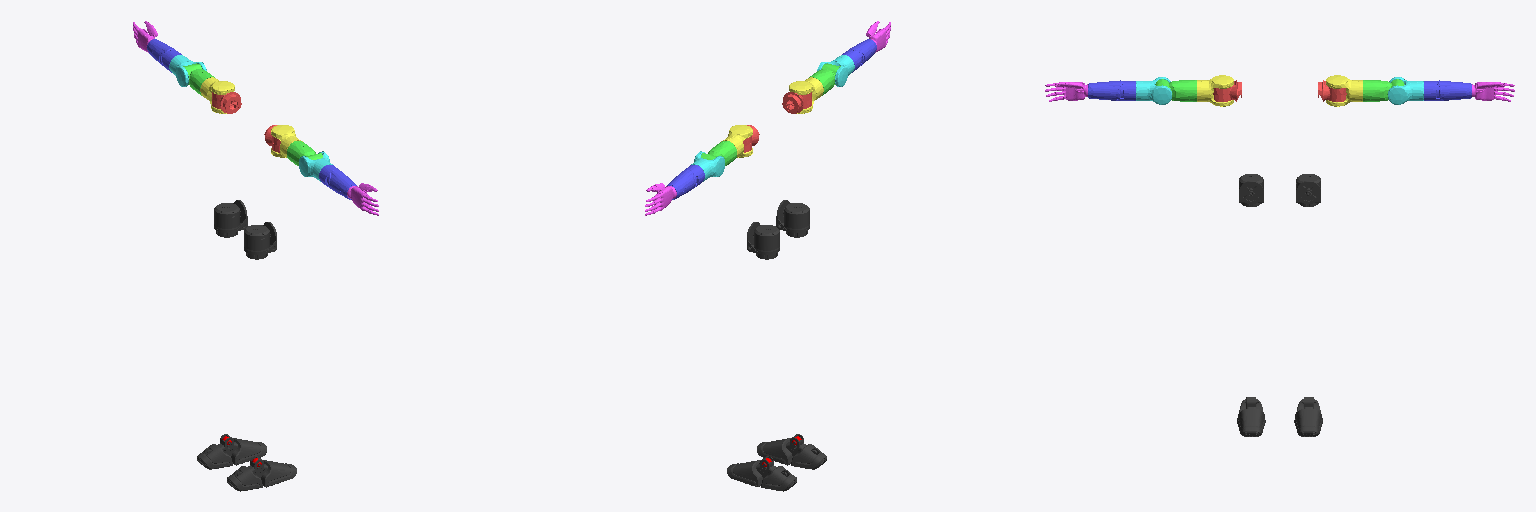
--- Facts derived from the render (not from the file) ---
Views: 3 orthographic renders of the robot side by side, from view 1: azimuth 30°, elevation 25°; view 2: azimuth 150°, elevation 25°; view 3: azimuth 270°, elevation 25°.
Model wholebody_description with 32 links and 31 joints (24 revolute, 7 fixed), rooted at world, posed every joint at zero.
Links seen in each view (by area): view 1: 2-right-foot, 1-left-foot, 1-left-hip-roll, 2-right-hip-roll, 4-right-arm-link05, 4-right-arm-link07, 3-left-arm-link02, 3-left-arm-link05, 4-right-arm-link02; view 2: 1-left-foot, 2-right-foot, 2-right-hip-roll, 1-left-hip-roll, 3-left-arm-link05, 3-left-arm-link07, 4-right-arm-link02, 4-right-arm-link05, 3-left-arm-link02; view 3: 1-left-foot, 2-right-foot, 3-left-arm-link05, 4-right-arm-link05, 2-right-hip-roll, 1-left-hip-roll, 3-left-arm-link04, 4-right-arm-link04, 3-left-arm-link02, 4-right-arm-link02, 4-right-arm-link07, 3-left-arm-link07 (+2 smaller).
Boxes of the visible links, bbox=[...] form: 2-right-foot: bbox=[227, 456, 296, 491]; 1-left-foot: bbox=[197, 434, 266, 469]; 1-left-hip-roll: bbox=[214, 200, 247, 237]; 2-right-hip-roll: bbox=[244, 222, 276, 259]; 4-right-arm-link05: bbox=[319, 165, 356, 199]; 4-right-arm-link07: bbox=[347, 183, 378, 215]; 3-left-arm-link02: bbox=[200, 77, 234, 113]; 3-left-arm-link05: bbox=[147, 39, 181, 72]; 4-right-arm-link02: bbox=[271, 125, 302, 157]; 1-left-foot: bbox=[727, 456, 796, 491]; 2-right-foot: bbox=[757, 434, 826, 469]; 2-right-hip-roll: bbox=[776, 200, 809, 237]; 1-left-hip-roll: bbox=[747, 222, 779, 259]; 3-left-arm-link05: bbox=[667, 165, 704, 199]; 3-left-arm-link07: bbox=[645, 183, 676, 215]; 4-right-arm-link02: bbox=[789, 77, 823, 113]; 4-right-arm-link05: bbox=[842, 39, 876, 72]; 3-left-arm-link02: bbox=[721, 125, 752, 157]; 1-left-foot: bbox=[1294, 397, 1322, 436]; 2-right-foot: bbox=[1237, 397, 1265, 436]; 3-left-arm-link05: bbox=[1424, 80, 1471, 100]; 4-right-arm-link05: bbox=[1088, 80, 1135, 100]; 2-right-hip-roll: bbox=[1239, 174, 1263, 206]; 1-left-hip-roll: bbox=[1296, 174, 1320, 206]; 3-left-arm-link04: bbox=[1388, 77, 1423, 104]; 4-right-arm-link04: bbox=[1136, 77, 1171, 104]; 3-left-arm-link02: bbox=[1326, 75, 1362, 106]; 4-right-arm-link02: bbox=[1197, 75, 1233, 106]; 4-right-arm-link07: bbox=[1045, 82, 1087, 101]; 3-left-arm-link07: bbox=[1472, 82, 1514, 101].
Size in the robot's own frame: 0.3018 by 1.97 by 1.61 metres.
16 mesh visuals loaded from 12 distinct referenced files (8 binary STL); not drawn: 7 (reference not matched to a file when rendering).

The robot description file, URDF, robot "wholebody_description":
<?xml version="1.0"?>
<robot name="wholebody_description">

  <link name="world">
  </link>
  <joint name="world_joint" type="fixed">
     <origin
        xyz="0.0 0.0 0.0" rpy="0 0 0" />
     <parent link="world"/>
     <child link="0-base_link"/>
  </joint>
  <link name="0-base_link">
    <inertial>
      <origin
          rpy="0 0 0"
          xyz="0.014568 0 0.177736" />
      <mass value="19.442" />
      <inertia
          ixx="0"
          ixy="0"
          ixz="0"
          iyy="0"
          iyz="0"
          izz="0" />
    </inertial>
    <visual>
      <origin
          rpy="0 0 0"
          xyz="0 0 0" />
      <geometry>
        <mesh filename="package://wholebody_description/meshes/body_0529.STL" />
      </geometry>
      <material name="">
        <color rgba="0.3 0.3 0.3 0.3"/>
        <texture filename=""/>
      </material>
    </visual>
    <collision>
      <origin
        xyz="0 0 0"
        rpy="0 0 0" />
      <geometry>
        <mesh
         filename="package://wholebody_description/meshes/body_0529.STL" />
       </geometry>
    </collision>
  </link>

  <link name="1-left-hip-roll">
    <inertial>
      <origin xyz="0.0238 0.0 -0.062536" rpy="0.0 0.0 0.0"/>
      <mass value="1.854"/>
      <inertia
          ixx="2776E-06"
          ixy="-0.219E-06"
          ixz="-147E-06"
          iyy="2934E-06"
          iyz="0.949E-06"
          izz="2550E-06" />
    </inertial>
    <visual name="">
      <origin xyz="0.0 0.0 0.0" rpy="0.0 0.0 0.0"/>
      <geometry>
        <mesh filename="package://wholebody_description/meshes/hip_roll_new.STL" />
      </geometry>
      <material name="">
        <color rgba="0.3 0.3 0.3 0.3"/>
        <texture filename=""/>
      </material>
    </visual>
    <collision>
      <origin
        xyz="0 0 0"
        rpy="0 0 0" />
      <geometry>
        <mesh
        filename="package://wholebody_description/meshes/hip_roll_new.STL" />
       </geometry>
    </collision>
  </link>
  <joint name="1-joint-left-hip-roll" type="revolute">
    <origin xyz="0.01865 0.11996 -0.05233" rpy="0.0 1.57079632679 0.0"/>
    <parent link="0-base_link"/>
    <child link="1-left-hip-roll"/>
    <axis xyz="0.0 0.0 1.0"/>
    <limit lower="-3.14" upper="3.14" effort="0.0" velocity="0.0"/>
  </joint>

  <link name="1-left-hip-yaw">
    <inertial>
      <origin xyz="-0.000264 -0.001626 -0.072694" rpy="0.0 0.0 0.0"/>
      <mass value="1.977"/>
      <inertia
          ixx="3699E-06"
          ixy="3.912E-06"
          ixz="3.869E-06"
          iyy="4128E-06"
          iyz="33.35E-06"
          izz="2810E-06" />
    </inertial>
    <visual name="">
      <origin xyz="0.0 0.0 0.0" rpy="0.0 0.0 0.0"/>
      <geometry>
        <mesh filename="package://wholebody_description/meshes/hip_yaw_new.STL" />
      </geometry>
      <material name="">
        <color rgba="0.3 0.3 0.3 0.3"/>
        <texture filename=""/>
      </material>
    </visual>
    <collision>
      <origin
        xyz="0 0 0"
        rpy="0 0 0" />
      <geometry>
        <mesh
        filename="package://wholebody_description/meshes/hip_yaw_new.STL" />
       </geometry>
    </collision>
  </link>
  <joint name="1-joint-left-hip-yaw" type="revolute">
    <origin xyz="0.0785 0.0 -0.0685" rpy="0.0 -1.5707963 0.0"/>
    <parent link="1-left-hip-roll"/>
    <child link="1-left-hip-yaw"/>
    <axis xyz="0.0 0.0 1.0"/>
    <limit lower="-3.14" upper="3.14" effort="0.0" velocity="0.0"/>
  </joint>

  <link name="1-left-hip-pitch">
    <inertial>
      <origin xyz="0.1269 0.067935 -0.01118" rpy="0.0 0.0 0.0"/>
      <mass value="3.385"/>
      <inertia
          ixx="12468E-06"
          ixy="-3134E-06"
          ixz="-936E-06"
          iyy="41562E-06"
          iyz="-1289E-06"
          izz="42584E-06" />
    </inertial>
    <visual name="">
      <origin xyz="0 0.0 0.0" rpy="0.0 0.0 0.0"/>
      <geometry>
        <mesh filename="package://wholebody_description/meshes/hip_pitch.STL" />
      </geometry>
      <material name="">
        <color rgba="0.3 0.3 0.3 0.3"/>
        <texture filename=""/>
      </material>
    </visual>
    <collision>
      <origin
        xyz="0 0 0"
        rpy="0 0 0" />
      <geometry>
        <mesh
        filename="package://wholebody_description/meshes/hip_pitch.STL" />
       </geometry>
    </collision>
  </link>
  <joint name="1-joint-left-hip-pitch" type="revolute">
    <origin xyz="0 0 -0.083" rpy="0.0 1.5707963 -1.5707963"/>
    <parent link="1-left-hip-yaw"/>
    <child link="1-left-hip-pitch"/>
    <axis xyz="0.0 0.0 1.0"/>
    <limit lower="-3.14" upper="3.14" effort="0.0" velocity="0.0"/>
  </joint>

  <link name="1-left-tarsus">
    <inertial>
      <origin xyz="0.091898 -0.010639 -0.000277" rpy="0.0 0.0 0.0"/>
      <mass value="2.368"/>
      <inertia
          ixx="3784E-06"
          ixy="-1490E-06"
          ixz="614E-06"
          iyy="48097E-06"
          iyz="71E-06"
          izz="49427E-06" />
    </inertial>
    <visual name="">
      <origin xyz="0.0 0.0 0.0" rpy="0.0 0.0 0.0"/>
      <geometry>
        <mesh filename="package://wholebody_description/meshes/tarsus.STL" />
      </geometry>
      <material name="">
        <color rgba="0.3 0.3 0.3 0.3"/>
        <texture filename=""/>
      </material>
    </visual>
    <collision>
      <origin
        xyz="0 0 0"
        rpy="0 0 0" />
      <geometry>
        <mesh
        filename="package://wholebody_description/meshes/tarsus.STL" />
       </geometry>
    </collision>
  </link>
  <joint name="1-joint-left-tarsus" type="revolute">
    <origin xyz="0.40782 0.0 0.0" rpy="0.0 0.0 0.0"/>
    <parent link="1-left-hip-pitch"/>
    <child link="1-left-tarsus"/>
    <axis xyz="0.0 0.0 1.0"/>
    <limit lower="-3.14" upper="3.14" effort="0.0" velocity="0.0"/>
  </joint>

  <joint
      name="1-joint-left-foot-joint-fixed"
      type="fixed">
    <origin xyz="0.4267 0 0" rpy="-1.5707963 0.0 1.5707963" />
    <parent link="1-left-tarsus" />
    <child link="1-left-foot-joint-fix" />
  </joint>
  <link name="1-left-foot-joint-fix">
    <visual>
      <origin
          rpy="0 0 0"
          xyz="0 0 0" />
      <geometry>
        <sphere radius="0.02" />
      </geometry>
      <material name="">
        <color rgba="1 0 0 0.3"/>
        <texture filename=""/>
      </material>
    </visual>
    <inertial>
      <mass value="0.01" />
      <inertia
          ixx="8.64E-05"
          ixy="0.0"
          ixz="0.0"
          iyy="8.64E-05"
          iyz="0.0"
          izz="8.64E-05" />
    </inertial>
  </link>


  <link name="1-left-foot">
    <inertial>
      <origin xyz="0.011 0.00000 -0.05731" rpy="0.0 0.0 0.0"/>
      <mass value="0.532"/>
      <inertia
          ixx="659E-06"
          ixy="-5.4E-06"
          ixz="-250E-06"
          iyy="3001E-06"
          iyz="1.4E-06"
          izz="2620E-06" />
    </inertial>
    <visual name="">
      <origin xyz="0.0 0.0 0.0" rpy="0.0 0.0 0.0"/>
      <geometry>
        <mesh filename="package://wholebody_description/meshes/foot.STL" />
      </geometry>
      <material name="">
        <color rgba="0.3 0.3 0.3 0.3"/>
        <texture filename=""/>
      </material>
    </visual>
    <collision>
      <origin
        xyz="0 0 0"
        rpy="0 0 0" />
      <geometry>
        <mesh
        filename="package://wholebody_description/meshes/foot.STL" />
       </geometry>
    </collision>
  </link>
  <joint name="1-joint-left-foot" type="revolute">
    <origin xyz="0.4267 0 0" rpy="-1.5707963 0.0 1.5707963"/>
    <parent link="1-left-tarsus"/>
    <child link="1-left-foot"/>
    <axis xyz="0.0 1.0 0.0"/>
    <limit lower="-3.14" upper="3.14" effort="0.0" velocity="0.0"/>
  </joint>

  <joint
      name="1-joint-left-foot-fixed"
      type="fixed">
    <origin
        rpy="0 0 0"
        xyz="0 0 -0.073" />
    <parent link="1-left-foot" />
    <child link="1-left-foot-fix" />
  </joint>
  <link name="1-left-foot-fix">
    <visual>
      <origin
          rpy="0 0 0"
          xyz="0 0 0" />
      <geometry>
        <sphere radius="0.02" />
      </geometry>
      <material name="">
        <color rgba="1 0 0 0.3"/>
        <texture filename=""/>
      </material>
    </visual>
    <inertial>
      <mass value="0.01" />
      <inertia
          ixx="8.64E-05"
          ixy="0.0"
          ixz="0.0"
          iyy="8.64E-05"
          iyz="0.0"
          izz="8.64E-05" />
    </inertial>
  </link>

  <link name="2-right-hip-roll">
   <inertial>
      <origin xyz="0.0238 0.0 -0.062536" rpy="0.0 0.0 0.0"/>
      <mass value="1.854"/>
      <inertia
          ixx="2776E-06"
          ixy="0.219E-06"
          ixz="-147E-06"
          iyy="2934E-06"
          iyz="-0.949E-06"
          izz="2550E-06" />
    </inertial>
    <visual name="">
      <origin xyz="0.0 0.0 0.0" rpy="0.0 0.0 0.0"/>
      <geometry>
        <mesh filename="package://wholebody_description/meshes/hip_roll_new.STL" />
      </geometry>
      <material name="">
        <color rgba="0.3 0.3 0.3 0.3"/>
        <texture filename=""/>
      </material>
    </visual>
    <collision>
      <origin
        xyz="0 0 0"
        rpy="0 0 0" />
      <geometry>
        <mesh
        filename="package://wholebody_description/meshes/hip_roll_new.STL" />
       </geometry>
    </collision>
  </link>
  <joint name="2-joint-right-hip-roll" type="revolute">
    <origin xyz="0.01865 -0.11996 -0.05233" rpy="0.0 1.57079632679 0.0"/>
    <parent link="0-base_link"/>
    <child link="2-right-hip-roll"/>
    <axis xyz="0.0 0.0 1.0"/>
    <limit lower="-3.14" upper="3.14" effort="0.0" velocity="0.0"/>
  </joint>

  <link name="2-right-hip-yaw">
    <inertial>
      <origin xyz="-0.000264 0.001626 -0.072694" rpy="0.0 0.0 0.0"/>
      <mass value="1.977"/>
      <inertia
          ixx="3699E-06"
          ixy="3.912E-06"
          ixz="-3.869E-06"
          iyy="4128E-06"
          iyz="-33.35E-06"
          izz="2810E-06" />
    </inertial>
    <visual name="">
      <origin xyz="0.0 0.0 0.0" rpy="0.0 0.0 0.0"/>
      <geometry>
        <mesh filename="package://wholebody_description/meshes/hip_yaw_new.STL" />
      </geometry>
      <material name="">
        <color rgba="0.3 0.3 0.3 0.3"/>
        <texture filename=""/>
      </material>
    </visual>
    <collision>
      <origin
        xyz="0 0 0"
        rpy="0 0 0" />
      <geometry>
        <mesh
        filename="package://wholebody_description/meshes/hip_yaw_new.STL" />
       </geometry>
    </collision>
  </link>
  <joint name="2-joint-right-hip-yaw" type="revolute">
    <origin xyz="0.0785 0.0 -0.0685" rpy="0.0 -1.5707963 0.0"/>
    <parent link="2-right-hip-roll"/>
    <child link="2-right-hip-yaw"/>
    <axis xyz="0.0 0.0 1.0"/>
    <limit lower="-3.14" upper="3.14" effort="0.0" velocity="0.0"/>
  </joint>

  <link name="2-right-hip-pitch">
    <inertial>
      <origin xyz="0.1269 0.067935 0.01118" rpy="0.0 0.0 0.0"/>
      <mass value="3.385"/>
      <inertia
          ixx="12468E-06"
          ixy="-3134E-06"
          ixz="936E-06"
          iyy="41562E-06"
          iyz="1289E-06"
          izz="42584E-06" />
    </inertial>
    <visual name="">
      <origin xyz="0 0.0 0.0" rpy="0.0 0.0 0.0"/>
      <geometry>
        <mesh filename="package://wholebody_description/meshes/hip_pitch.STL" />
      </geometry>
      <material name="">
        <color rgba="0.3 0.3 0.3 0.3"/>
        <texture filename=""/>
      </material>
    </visual>
    <collision>
      <origin
        xyz="0 0 0"
        rpy="0 0 0" />
      <geometry>
        <mesh
        filename="package://wholebody_description/meshes/hip_pitch.STL" />
       </geometry>
    </collision>
  </link>
  <joint name="2-joint-right-hip-pitch" type="revolute">
    <origin xyz="0 0 -0.083" rpy="0.0 1.5707963 -1.5707963"/>
    <parent link="2-right-hip-yaw"/>
    <child link="2-right-hip-pitch"/>
    <axis xyz="0.0 0.0 1.0"/>
    <limit lower="-3.14" upper="3.14" effort="0.0" velocity="0.0"/>
  </joint>

  <link name="2-right-tarsus">
    <inertial>
      <origin xyz="0.091898 -0.010639 0.000277" rpy="0.0 0.0 0.0"/>
      <mass value="2.368"/>
      <inertia
          ixx="3784E-06"
          ixy="-1490E-06"
          ixz="-614E-06"
          iyy="48097E-06"
          iyz="-71E-06"
          izz="49427E-06" />
    </inertial>
    <visual name="">
      <origin xyz="0.0 0.0 0.0" rpy="0.0 0.0 0.0"/>
      <geometry>
        <mesh filename="package://wholebody_description/meshes/tarsus.STL" />
      </geometry>
      <material name="">
        <color rgba="0.3 0.3 0.3 0.3"/>
        <texture filename=""/>
      </material>
    </visual>
    <collision>
      <origin
        xyz="0 0 0"
        rpy="0 0 0" />
      <geometry>
        <mesh
        filename="package://wholebody_description/meshes/tarsus.STL" />
       </geometry>
    </collision>
  </link>
  <joint name="2-joint-right-tarsus" type="revolute">
    <origin xyz="0.40782 0.0 0.0" rpy="0.0 0.0 0.0"/>
    <parent link="2-right-hip-pitch"/>
    <child link="2-right-tarsus"/>
    <axis xyz="0.0 0.0 1.0"/>
    <limit lower="-3.14" upper="3.14" effort="0.0" velocity="0.0"/>
  </joint>

  <joint
      name="2-joint-right-foot-joint-fixed"
      type="fixed">
    <origin xyz="0.4267 0 0" rpy="-1.5707963 0.0 1.5707963" />
    <parent link="2-right-tarsus" />
    <child link="2-right-foot-joint-fix" />
  </joint>
  <link name="2-right-foot-joint-fix">
    <visual>
      <origin
          rpy="0 0 0"
          xyz="0 0 0" />
      <geometry>
        <sphere radius="0.02" />
      </geometry>
      <material name="">
        <color rgba="1 0 0 0.3"/>
        <texture filename=""/>
      </material>
    </visual>
    <inertial>
      <mass value="0.01" />
      <inertia
          ixx="8.64E-05"
          ixy="0.0"
          ixz="0.0"
          iyy="8.64E-05"
          iyz="0.0"
          izz="8.64E-05" />
    </inertial>
  </link>

  <link name="2-right-foot">
    <inertial>
      <origin xyz="0.011 0.00000 -0.05731" rpy="0.0 0.0 0.0"/>
      <mass value="0.532"/>
      <inertia
          ixx="659E-06"
          ixy="-5.4E-06"
          ixz="-250E-06"
          iyy="3001E-06"
          iyz="-1.4E-06"
          izz="2620E-06" />
    </inertial>
    <visual name="">
      <origin xyz="0.0 0.0 0.0" rpy="0.0 0.0 0.0"/>
      <geometry>
        <mesh filename="package://wholebody_description/meshes/foot.STL" />
      </geometry>
      <material name="">
        <color rgba="0.3 0.3 0.3 0.3"/>
        <texture filename=""/>
      </material>
    </visual>
    <collision>
      <origin
        xyz="0 0 0"
        rpy="0 0 0" />
      <geometry>
        <mesh
        filename="package://wholebody_description/meshes/foot.STL" />
       </geometry>
    </collision>
  </link>
  <joint name="2-joint-right-foot" type="revolute">
    <origin xyz="0.4267 0 0" rpy="-1.5707963 0.0 1.5707963"/>
    <parent link="2-right-tarsus"/>
    <child link="2-right-foot"/>
    <axis xyz="0.0 1.0 0.0"/>
    <limit lower="-3.14" upper="3.14" effort="0.0" velocity="0.0"/>
  </joint>

  <joint
      name="2-joint-right-foot-fixed"
      type="fixed">
    <origin
        rpy="0 0 0"
        xyz="0 0 -0.073" />
    <parent link="2-right-foot" />
    <child link="2-right-foot-fix" />
  </joint>
  <link name="2-right-foot-fix">
    <visual>
      <origin
          rpy="0 0 0"
          xyz="0 0 0" />
      <geometry>
        <sphere radius="0.02" />
      </geometry>
      <material name="">
        <color rgba="1 0 0 0.3"/>
        <texture filename=""/>
      </material>
    </visual>
    <inertial>
      <mass value="0.01" />
      <inertia
          ixx="8.64E-05"
          ixy="0.0"
          ixz="0.0"
          iyy="8.64E-05"
          iyz="0.0"
          izz="8.64E-05" />
    </inertial>
  </link>

  <link name="3-left-arm-link01">
    <inertial>
      <origin xyz="-0.00578 0 -0.081526" rpy="0.0 0.0 0.0"/>
      <mass value="1.886"/>
      <inertia
          ixx="2194E-06"
          ixy="0.286E-06"
          ixz="43.355E-06"
          iyy="2273E-06"
          iyz="0.132E-06"
          izz="1697E-06" />
    </inertial>
    <visual name="">
      <origin xyz="0.0 0.0 0.0" rpy="0.0 0.0 0.0"/>
      <geometry>
        <mesh filename="package://wholebody_description/meshes/arm_link_01.STL" />
      </geometry>
      <material name="">
        <color rgba="1 0.4 0.4 1"/>
        <texture filename=""/>
      </material>
    </visual>
    <collision>
      <origin
        xyz="0 0 0"
        rpy="0 0 0" />
      <geometry>
        <mesh
        filename="package://wholebody_description/meshes/arm_link_01.STL" />
       </geometry>
    </collision>
  </link>
  <joint name="3-left-arm-joint01" type="revolute">
    <origin xyz="0.00135 0.15696 0.41221" rpy="0.0 1.5707963 -1.5707963"/>
    <parent link="0-base_link"/>
    <child link="3-left-arm-link01"/>
    <axis xyz="0.0 0.0 1.0"/>
    <limit lower="-3.14" upper="3.14" effort="0.0" velocity="0.0"/>
  </joint>

  <link name="3-left-arm-link02">
    <inertial>
      <origin xyz="-0.000017 -0.094901 -0.000245" rpy="0.0 0.0 0.0"/>
      <mass value="1.748"/>
      <inertia
          ixx="3557E-06"
          ixy="-0.403E-06"
          ixz="0.202E-06"
          iyy="1570E-06"
          iyz="-26E-06"
          izz="3269E-06" />
    </inertial>
    <visual name="">
      <origin xyz="0.0 0.0 0.0" rpy="0.0 0.0 0.0"/>
      <geometry>
        <mesh filename="package://wholebody_description/meshes/arm_link_02.STL" />
      </geometry>
      <material name="">
        <color rgba="1 1 0.4 1"/>
        <texture filename=""/>
      </material>
    </visual>
    <collision>
      <origin
        xyz="0 0 0"
        rpy="0 0 0" />
      <geometry>
        <mesh
        filename="package://wholebody_description/meshes/arm_link_02.STL" />
       </geometry>
    </collision>
  </link>
  <joint name="3-left-arm-joint02" type="revolute">
    <origin xyz="0 0 -0.083" rpy="1.5707963 0 1.5707963"/>
    <parent link="3-left-arm-link01"/>
    <child link="3-left-arm-link02"/>
    <axis xyz="0.0 0.0 1.0"/>
    <limit lower="-3.14" upper="3.14" effort="0.0" velocity="0.0"/>
  </joint>

  <link name="3-left-arm-link03">
    <inertial>
      <origin xyz="0.00356 0 -0.094185" rpy="0.0 0.0 0.0"/>
      <mass value="1.725"/>
      <inertia
          ixx="2513E-06"
          ixy="0.306E-06"
          ixz="-66.793E-06"
          iyy="2589E-06"
          iyz="-0.334E-06"
          izz="1396E-06" />
    </inertial>
    <visual name="">
      <origin xyz="0.0 0.0 0.0" rpy="0.0 0.0 0.0"/>
      <geometry>
        <mesh filename="package://wholebody_description/meshes/arm_link_03.STL" />
      </geometry>
      <material name="">
        <color rgba="0.4 1 0.4 1"/>
        <texture filename=""/>
      </material>
    </visual>
    <collision>
      <origin
        xyz="0 0 0"
        rpy="0 0 0" />
      <geometry>
        <mesh
        filename="package://wholebody_description/meshes/arm_link_03.STL" />
       </geometry>
    </collision>
  </link>
  <joint name="3-left-arm-joint03" type="revolute">
    <origin xyz="0 -0.14796 0" rpy="-1.5707963 0 0"/>
    <parent link="3-left-arm-link02"/>
    <child link="3-left-arm-link03"/>
    <axis xyz="0.0 0.0 1.0"/>
    <limit lower="-3.14" upper="3.14" effort="0.0" velocity="0.0"/>
  </joint>

  <link name="3-left-arm-link04">
    <inertial>
      <origin xyz="-0.000045 -0.074621 -0.000664" rpy="0.0 0.0 0.0"/>
      <mass value="0.662"/>
      <inertia
          ixx="1441E-06"
          ixy="0.034E-06"
          ixz="-0.347E-06"
          iyy="583E-06"
          iyz="-25E-06"
          izz="1252E-06" />
    </inertial>
    <visual name="">
      <origin xyz="0.0 0.0 0.0" rpy="0.0 0.0 0.0"/>
      <geometry>
        <mesh filename="package://wholebody_description/meshes/arm_link_04.STL" />
      </geometry>
      <material name="">
        <color rgba="0.4 1 1 1"/>
        <texture filename=""/>
      </material>
    </visual>
    <collision>
      <origin
        xyz="0 0 0"
        rpy="0 0 0" />
      <geometry>
        <mesh
        filename="package://wholebody_description/meshes/arm_link_04.STL" />
       </geometry>
    </collision>
  </link>
  <joint name="3-left-arm-joint04" type="revolute">
    <origin xyz="0 0 -0.10498" rpy="1.5707963 0 1.5707963"/>
    <parent link="3-left-arm-link03"/>
    <child link="3-left-arm-link04"/>
    <axis xyz="0.0 0.0 1.0"/>
    <limit lower="-3.14" upper="3.14" effort="0.0" velocity="0.0"/>
  </joint>

  <link name="3-left-arm-link05">
    <inertial>
      <origin xyz="0.000861 0.001412 -0.087575" rpy="0.0 0.0 0.0"/>
      <mass value="0.833"/>
      <inertia
          ixx="2451E-06"
          ixy="6.582E-06"
          ixz="-47.176E-06"
          iyy="2393E-06"
          iyz="-68.463E-06"
          izz="609E-06" />
    </inertial>
    <visual name="">
      <origin xyz="0.0 0.0 0.0" rpy="0.0 0.0 0.0"/>
      <geometry>
        <mesh filename="package://wholebody_description/meshes/arm_link_05.STL" />
      </geometry>
      <material name="">
        <color rgba="0.4 0.4 1 1"/>
        <texture filename=""/>
      </material>
    </visual>
    <collision>
      <origin
        xyz="0 0 0"
        rpy="0 0 0" />
      <geometry>
        <mesh
        filename="package://wholebody_description/meshes/arm_link_05.STL" />
       </geometry>
    </collision>
  </link>
  <joint name="3-left-arm-joint05" type="revolute">
    <origin xyz="0 -0.12799 0" rpy="-1.5707963 -1.5707963 0"/>
    <parent link="3-left-arm-link04"/>
    <child link="3-left-arm-link05"/>
    <axis xyz="0.0 0.0 1.0"/>
    <limit lower="-3.14" upper="3.14" effort="0.0" velocity="0.0"/>
  </joint>

  <link name="3-left-arm-link06">
    <inertial>
      <origin xyz="0 0 0" rpy="0.0 0.0 0.0"/>
      <mass value="0.001"/>
      <inertia
          ixx="1E-06"
          ixy="0E-06"
          ixz="0E-06"
          iyy="1E-06"
          iyz="0E-06"
          izz="1E-06" />
    </inertial>
  </link>
  <joint name="3-left-arm-joint06" type="revolute">
    <origin xyz="0 0 -0.18043" rpy="0 -1.5707963 0"/>
    <parent link="3-left-arm-link05"/>
    <child link="3-left-arm-link06"/>
    <axis xyz="0.0 1.0 0.0"/>
    <limit lower="-3.14" upper="3.14" effort="0.0" velocity="0.0"/>
  </joint>

  <link name="3-left-arm-link07">
    <inertial>
      <origin xyz="-0.045244 0.004857 -0.003763" rpy="0.0 0.0 0.0"/>
      <mass value="0.752"/>
      <inertia
          ixx="579E-06"
          ixy="-50E-06"
          ixz="69E-06"
          iyy="3026E-06"
          iyz="-100E-06"
          izz="3267E-06" />
    </inertial>
    <visual name="">
      <origin xyz="0.0 0.0 0.0" rpy="0.0 0.0 0.0"/>
      <geometry>
        <mesh filename="package://wholebody_description/meshes/arm_link_06.STL" />
      </geometry>
      <material name="">
        <color rgba="1 0.4 1 1"/>
        <texture filename=""/>
      </material>
    </visual>
    <collision>
      <origin
        xyz="0 0 0"
        rpy="0 0 0" />
      <geometry>
        <mesh
        filename="package://wholebody_description/meshes/arm_link_06.STL" />
       </geometry>
    </collision>
  </link>
  <joint name="3-left-arm-joint07" type="revolute">
    <origin xyz="0 0 0" rpy="0 0 0"/>
    <parent link="3-left-arm-link06"/>
    <child link="3-left-arm-link07"/>
    <axis xyz="0.0 0.0 1.0"/>
    <limit lower="-3.14" upper="3.14" effort="0.0" velocity="0.0"/>
  </joint>
  <link name="left_tool" />
  <joint name="left_tool_joint" type="fixed">
      <origin rpy="0 0 0" xyz="-0.06 0  0" />
      <parent link="3-left-arm-link07" />
      <child link="left_tool" />
      <axis xyz="0 0 0" />
  </joint>

  <link name="humanoid_hand">
    <visual>
        <geometry>
            <box size="0.02 0.02 0.02"/>
        </geometry>
        <origin rpy="0 0 0" xyz="0 0 0"/>
        <material name="pink">
            <color rgba="0.8 0.4 0.8 1"/>
        </material>
    </visual>
        <collision>
            <geometry>
                <box size="0.02 0.02 0.02"/>
            </geometry>
            <origin rpy="0 0 0" xyz="0 0 0"/>
        </collision>
        <inertial>
            <mass value="0.2"/>
            <inertia ixx="0" ixy="0" ixz="0" iyy="0" iyz="0" izz="0"/>
        </inertial>
  </link>
  <joint name="humanoid_hand_joint" type="fixed">
    <parent link="left_tool" />
    <child link="humanoid_hand" />
    <origin rpy="0 0 0" xyz="0 0 0" />
  </joint>

  <link name="4-right-arm-link01">
    <inertial>
      <origin xyz="-0.00578 0 0.081526" rpy="0.0 0.0 0.0"/>
      <mass value="1.886"/>
      <inertia
          ixx="2194E-06"
          ixy="0.286E-06"
          ixz="-43.355E-06"
          iyy="2273E-06"
          iyz="-0.132E-06"
          izz="1697E-06" />
    </inertial>
    <visual name="">
      <origin xyz="0.0 0.0 0.0" rpy="0.0 0.0 0.0"/>
      <geometry>
        <mesh filename="package://wholebody_description/meshes/arm_link_01.STL" scale="1 1 -1"/>
      </geometry>
      <material name="">
        <color rgba="1 0.4 0.4 1"/>
        <texture filename=""/>
      </material>
    </visual>
    <collision>
      <origin
        xyz="0 0 0"
        rpy="0 0 0" />
      <geometry>
        <mesh
        filename="package://wholebody_description/meshes/arm_link_01.STL" />
       </geometry>
    </collision>
  </link>
  <joint name="4-right-arm-joint01" type="revolute">
    <origin xyz="0.00135 -0.15696 0.41221" rpy="0.0 1.5707963 -1.5707963"/>
    <parent link="0-base_link"/>
    <child link="4-right-arm-link01"/>
    <axis xyz="0.0 0.0 1.0"/>
    <limit lower="-3.14" upper="3.14" effort="0.0" velocity="0.0"/>
  </joint>

  <link name="4-right-arm-link02">
    <inertial>
      <origin xyz="-0.000017 0.094901 -0.000245" rpy="0.0 0.0 0.0"/>
      <mass value="1.748"/>
      <inertia
          ixx="3557E-06"
          ixy="0.403E-06"
          ixz="0.202E-06"
          iyy="1570E-06"
          iyz="26E-06"
          izz="3269E-06" />
    </inertial>
    <visual name="">
      <origin xyz="0.0 0.0 0.0" rpy="0.0 0.0 0.0"/>
      <geometry>
        <mesh filename="package://wholebody_description/meshes/arm_link_02.STL" scale="1 -1 1"/>
      </geometry>
      <material name="">
        <color rgba="1 1 0.4 1"/>
        <texture filename=""/>
      </material>
    </visual>
    <collision>
      <origin
        xyz="0 0 0"
        rpy="0 0 0" />
      <geometry>
        <mesh
        filename="package://wholebody_description/meshes/arm_link_02.STL" />
       </geometry>
    </collision>
  </link>
  <joint name="4-right-arm-joint02" type="revolute">
    <origin xyz="0 0 0.083" rpy="1.5707963 0 1.5707963"/>
    <parent link="4-right-arm-link01"/>
    <child link="4-right-arm-link02"/>
    <axis xyz="0.0 0.0 1.0"/>
    <limit lower="-3.14" upper="3.14" effort="0.0" velocity="0.0"/>
  </joint>

  <link name="4-right-arm-link03">
    <inertial>
      <origin xyz="0.00356 0 0.094185" rpy="0.0 0.0 0.0"/>
      <mass value="1.725"/>
      <inertia
          ixx="2513E-06"
          ixy="0.306E-06"
          ixz="66.793E-06"
          iyy="2589E-06"
          iyz="0.334E-06"
          izz="1396E-06" />
    </inertial>
    <visual name="">
      <origin xyz="0.0 0.0 0.0" rpy="0.0 0.0 0.0"/>
      <geometry>
        <mesh filename="package://wholebody_description/meshes/arm_link_03.STL"  scale="1 1 -1"/>
      </geometry>
      <material name="">
        <color rgba="0.4 1 0.4 1"/>
        <texture filename=""/>
      </material>
    </visual>
    <collision>
      <origin
        xyz="0 0 0"
        rpy="0 0 0" />
      <geometry>
        <mesh
        filename="package://wholebody_description/meshes/arm_link_03.STL" />
       </geometry>
    </collision>
  </link>
  <joint name="4-right-arm-joint03" type="revolute">
    <origin xyz="0 0.14796 0" rpy="-1.5707963 0 0"/>
    <parent link="4-right-arm-link02"/>
    <child link="4-right-arm-link03"/>
    <axis xyz="0.0 0.0 1.0"/>
    <limit lower="-3.14" upper="3.14" effort="0.0" velocity="0.0"/>
  </joint>

  <link name="4-right-arm-link04">
    <inertial>
      <origin xyz="-0.000045 0.074621 -0.000664" rpy="0.0 0.0 0.0"/>
      <mass value="0.662"/>
      <inertia
          ixx="1441E-06"
          ixy="-0.034E-06"
          ixz="-0.347E-06"
          iyy="583E-06"
          iyz="25E-06"
          izz="1252E-06" />
    </inertial>
    <visual name="">
      <origin xyz="0.0 0.0 0.0" rpy="0.0 0.0 0.0"/>
      <geometry>
        <mesh filename="package://wholebody_description/meshes/arm_link_04.STL" scale="1 -1 1"/>
      </geometry>
      <material name="">
        <color rgba="0.4 1 1 1"/>
        <texture filename=""/>
      </material>
    </visual>
    <collision>
      <origin
        xyz="0 0 0"
        rpy="0 0 0" />
      <geometry>
        <mesh
        filename="package://wholebody_description/meshes/arm_link_04.STL" />
       </geometry>
    </collision>
  </link>
  <joint name="4-right-arm-joint04" type="revolute">
    <origin xyz="0 0 0.10498" rpy="1.5707963 0 1.5707963"/>
    <parent link="4-right-arm-link03"/>
    <child link="4-right-arm-link04"/>
    <axis xyz="0.0 0.0 1.0"/>
    <limit lower="-3.14" upper="3.14" effort="0.0" velocity="0.0"/>
  </joint>

  <link name="4-right-arm-link05">
    <inertial>
      <origin xyz="0.000861 0.001412 0.087575" rpy="0.0 0.0 0.0"/>
      <mass value="0.833"/>
      <inertia
          ixx="2451E-06"
          ixy="6.582E-06"
          ixz="47.176E-06"
          iyy="2393E-06"
          iyz="68.463E-06"
          izz="609E-06" />
    </inertial>
    <visual name="">
      <origin xyz="0.0 0.0 0.0" rpy="0.0 0.0 0.0"/>
      <geometry>
        <mesh filename="package://wholebody_description/meshes/arm_link_05.STL" scale="1 1 -1"/>
      </geometry>
      <material name="">
        <color rgba="0.4 0.4 1 1"/>
        <texture filename=""/>
      </material>
    </visual>
    <collision>
      <origin
        xyz="0 0 0"
        rpy="0 0 0" />
      <geometry>
        <mesh
        filename="package://wholebody_description/meshes/arm_link_05.STL" />
       </geometry>
    </collision>
  </link>
  <joint name="4-right-arm-joint05" type="revolute">
    <origin xyz="0 0.12799 0" rpy="-1.5707963 -1.5707963 0"/>
    <parent link="4-right-arm-link04"/>
    <child link="4-right-arm-link05"/>
    <axis xyz="0.0 0.0 1.0"/>
    <limit lower="-3.14" upper="3.14" effort="0.0" velocity="0.0"/>
  </joint>

  <link name="4-right-arm-link06">
    <inertial>
      <origin xyz="0 0 0" rpy="0.0 0.0 0.0"/>
      <mass value="0.001"/>
      <inertia
          ixx="1E-06"
          ixy="0E-06"
          ixz="0E-06"
          iyy="1E-06"
          iyz="0E-06"
          izz="1E-06" />
    </inertial>
  </link>
  <joint name="4-right-arm-joint06" type="revolute">
    <origin xyz="0 0 0.18043" rpy="0 -1.5707963 0"/>
    <parent link="4-right-arm-link05"/>
    <child link="4-right-arm-link06"/>
    <axis xyz="0.0 1.0 0.0"/>
    <limit lower="-3.14" upper="3.14" effort="0.0" velocity="0.0"/>
  </joint>

  <link name="4-right-arm-link07">
    <inertial>
      <origin xyz="0.045244 0.004857 -0.003763" rpy="0.0 0.0 0.0"/>
      <mass value="0.752"/>
      <inertia
          ixx="579E-06"
          ixy="50E-06"
          ixz="-69E-06"
          iyy="3026E-06"
          iyz="-100E-06"
          izz="3267E-06" />
    </inertial>
    <visual name="">
      <origin xyz="0.0 0.0 0.0" rpy="0.0 0.0 0.0"/>
      <geometry>
        <mesh filename="package://wholebody_description/meshes/arm_link_06.STL" scale="-1 1 1"/>
      </geometry>
      <material name="">
        <color rgba="1 0.4 1 1"/>
        <texture filename=""/>
      </material>
    </visual>
    <collision>
      <origin
        xyz="0 0 0"
        rpy="0 0 0" />
      <geometry>
        <mesh
        filename="package://wholebody_description/meshes/arm_link_06.STL" />
       </geometry>
    </collision>
  </link>
  <joint name="4-right-arm-joint07" type="revolute">
    <origin xyz="0 0 0" rpy="0 0 0"/>
    <parent link="4-right-arm-link06"/>
    <child link="4-right-arm-link07"/>
    <axis xyz="0.0 0.0 1.0"/>
    <limit lower="-3.14" upper="3.14" effort="0.0" velocity="0.0"/>
  </joint>

</robot>
